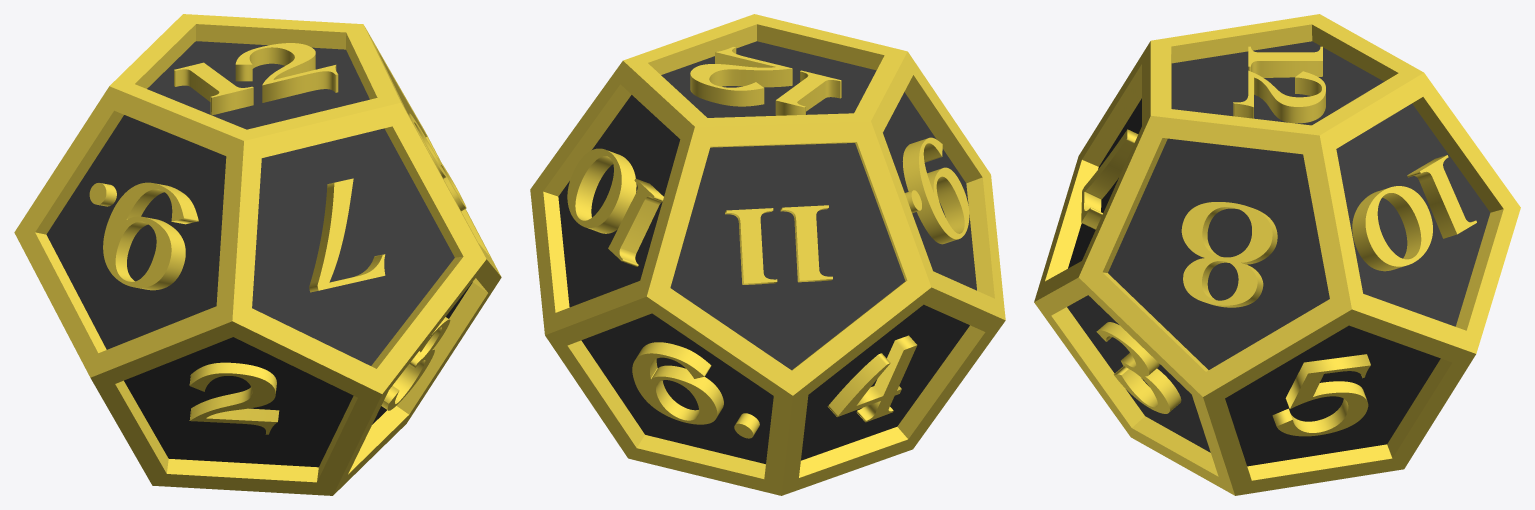
The picture shows the model from 3 angles, left to right: view 1: azimuth 30°, elevation 25°; view 2: azimuth 150°, elevation 25°; view 3: azimuth 270°, elevation 25°; orthographic projection. The views are drawn at different scales.
Parts seen in each view (by area): view 1: Cube.001, d12_face_7, d12_face_9, d12_face_2, d12_face_12, Text.048, Text.046, Text.056, Text.047, Text.055, Text.051; view 2: Cube.001, d12_face_11, d12_face_6, d12_face_10, d12_face_4, Text.049, d12_face_12, Text.046, Text.053, d12_face_9, Text.048, Text.050 (+1 smaller); view 3: Cube.001, d12_face_8, d12_face_10, d12_face_5, d12_face_12, Text.049, Text.051, Text.046, Text.054, d12_face_3, Text.055, Text.047 (+1 smaller).
Boxes of the visible parts, x1,y1,x2,y2 form: Cube.001: [14, 14, 501, 495]; d12_face_7: [252, 128, 454, 365]; d12_face_9: [46, 115, 226, 349]; d12_face_2: [124, 337, 353, 467]; d12_face_12: [147, 41, 369, 129]; Text.048: [89, 182, 198, 290]; Text.046: [174, 43, 338, 115]; Text.056: [189, 362, 279, 434]; Text.047: [309, 178, 385, 292]; Text.055: [381, 317, 450, 410]; Text.051: [408, 113, 466, 211]; Cube.001: [530, 14, 1005, 495]; d12_face_11: [670, 143, 905, 370]; d12_face_6: [581, 313, 773, 464]; d12_face_10: [558, 95, 680, 307]; d12_face_4: [801, 304, 969, 460]; Text.049: [567, 148, 663, 266]; d12_face_12: [661, 41, 876, 117]; Text.046: [690, 47, 841, 115]; Text.053: [632, 342, 759, 438]; d12_face_9: [883, 92, 976, 290]; Text.048: [902, 137, 969, 244]; Text.050: [725, 205, 832, 284]; Cube.001: [1034, 14, 1520, 495]; d12_face_8: [1108, 138, 1329, 369]; d12_face_10: [1336, 103, 1490, 326]; d12_face_5: [1225, 325, 1440, 466]; d12_face_12: [1171, 41, 1383, 125]; Text.049: [1352, 155, 1476, 271]; Text.051: [1181, 202, 1277, 307]; Text.046: [1233, 46, 1325, 123]; Text.054: [1272, 354, 1370, 436]; d12_face_3: [1067, 295, 1210, 452]; Text.055: [1096, 322, 1181, 413]; Text.047: [1081, 129, 1138, 229].
Size of the model in its own units: 2.56 by 2.21 by 2.68.
